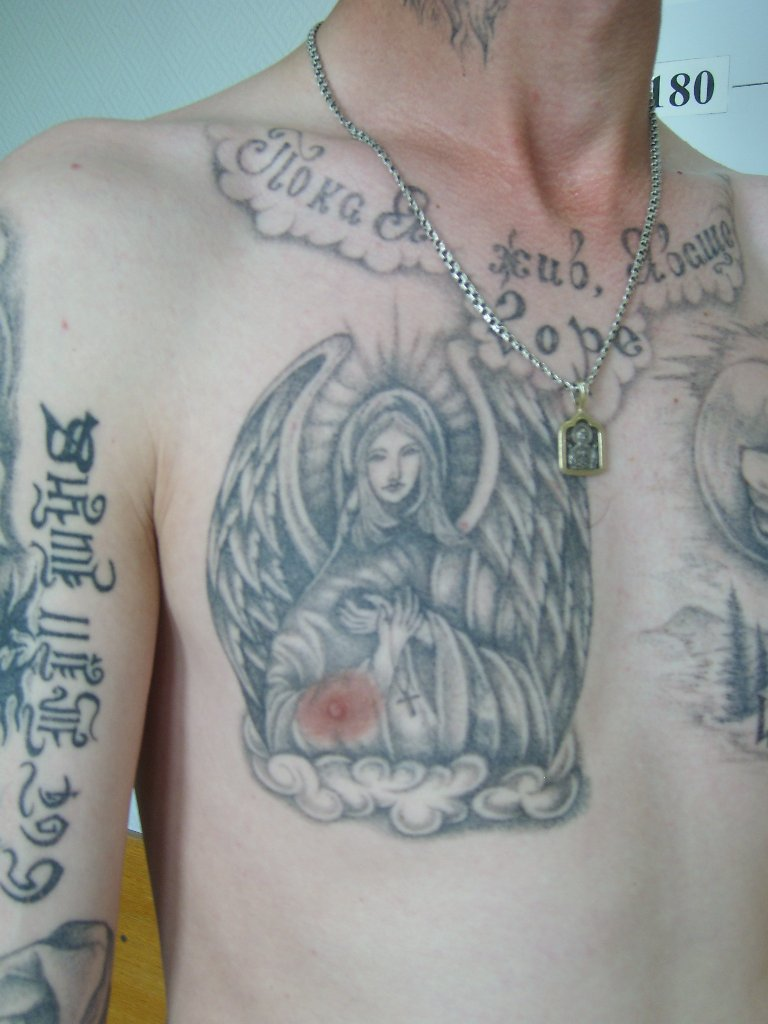tatu1_angel: (203, 315, 602, 825)
tatu3_bukva: (207, 116, 732, 372), (2, 399, 122, 913)
